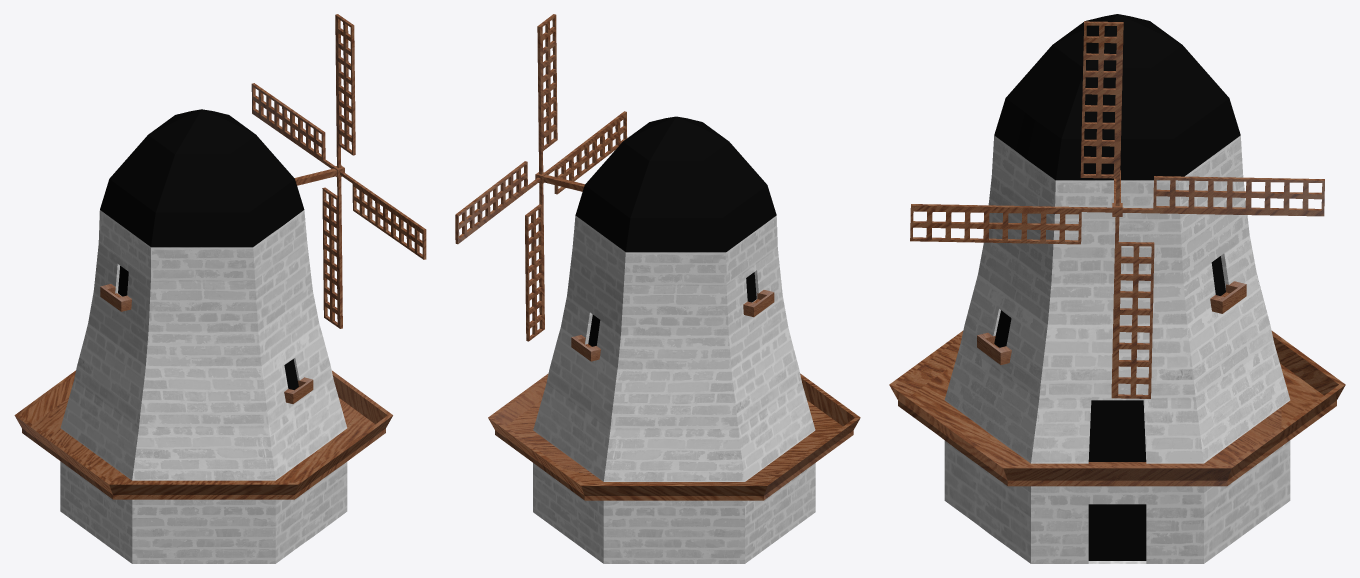
Rendered from Degirmen3.glb.
The picture shows the model from 3 angles, left to right: view 1: azimuth 30°, elevation 25°; view 2: azimuth 150°, elevation 25°; view 3: azimuth 270°, elevation 25°; orthographic projection. The views are drawn at different scales.
Visible parts, largest first — view 1: Circle_2, Cube_3, Cube.003_6; view 2: Circle_2, Cube_3, Cube.003_6; view 3: Circle_2, Cube_3, Cube.001_4, Cube.002_5.
Part boxes in pixels (<box>): Circle_2: <box>14,109,392,563</box>; Cube_3: <box>251,14,426,328</box>; Cube.003_6: <box>100,284,131,311</box>; Circle_2: <box>488,116,860,563</box>; Cube_3: <box>455,14,627,341</box>; Cube.003_6: <box>743,290,774,317</box>; Circle_2: <box>889,14,1345,563</box>; Cube_3: <box>910,21,1324,398</box>; Cube.001_4: <box>1210,281,1246,313</box>; Cube.002_5: <box>977,332,1011,364</box>.
Bounding box in the file's own units: 12.13 × 18.89 × 14.01.
Materials: 7 (5 with a texture image).
